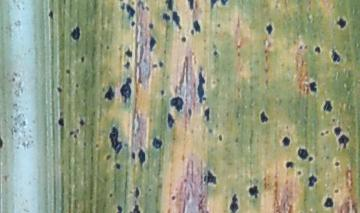tarspot: (108, 124, 122, 154), (120, 75, 131, 103), (197, 69, 205, 103), (169, 96, 185, 111), (337, 133, 350, 151), (171, 11, 182, 30), (330, 45, 341, 64), (204, 169, 217, 185), (247, 185, 259, 200), (322, 97, 333, 113), (126, 2, 135, 21), (137, 148, 146, 167), (230, 194, 239, 213), (297, 146, 309, 160), (335, 17, 347, 31), (306, 174, 317, 189), (69, 26, 80, 40), (280, 134, 291, 148), (308, 79, 318, 94), (152, 136, 163, 149), (323, 196, 334, 209), (167, 111, 175, 128), (103, 88, 115, 99), (263, 22, 273, 35), (283, 159, 295, 169), (149, 35, 156, 51), (130, 203, 141, 213), (193, 19, 201, 32), (332, 125, 342, 135), (166, 1, 175, 12), (260, 111, 269, 122), (47, 9, 55, 21), (124, 48, 133, 58), (161, 13, 171, 22), (186, 1, 195, 11), (134, 186, 141, 198), (205, 107, 211, 121), (57, 117, 65, 127), (114, 160, 121, 171), (130, 150, 137, 161), (78, 118, 86, 127), (333, 158, 341, 167), (314, 45, 322, 54), (62, 67, 72, 74), (123, 59, 130, 69), (217, 132, 223, 143), (147, 22, 155, 30), (115, 205, 123, 213), (158, 59, 165, 68), (104, 42, 111, 51), (79, 54, 85, 64), (119, 3, 127, 10), (333, 186, 340, 194), (144, 4, 151, 12), (215, 21, 222, 29), (187, 107, 192, 118), (189, 26, 195, 35), (220, 1, 229, 7), (56, 86, 63, 93), (180, 35, 187, 42), (212, 1, 219, 8), (213, 49, 219, 57), (105, 153, 111, 160), (107, 191, 113, 198), (151, 62, 158, 68), (170, 194, 176, 201), (331, 116, 337, 123), (308, 154, 313, 162), (130, 20, 136, 26), (296, 169, 302, 175), (75, 82, 80, 89), (160, 88, 165, 95), (299, 44, 304, 51), (320, 129, 324, 136), (1, 137, 3, 149), (69, 131, 75, 135), (325, 128, 329, 133)
